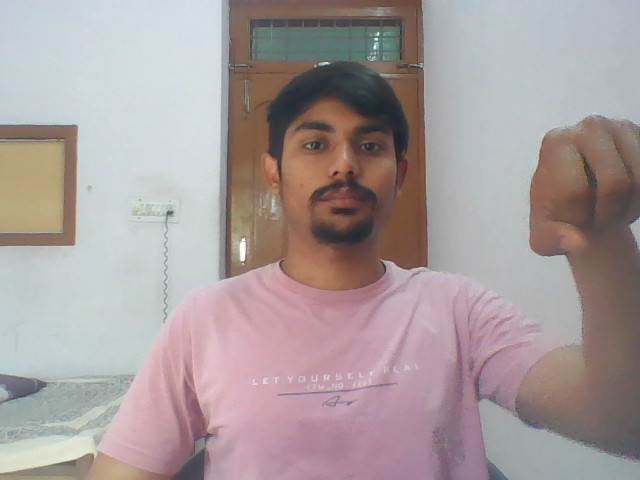Yes: (514, 108, 640, 258)
